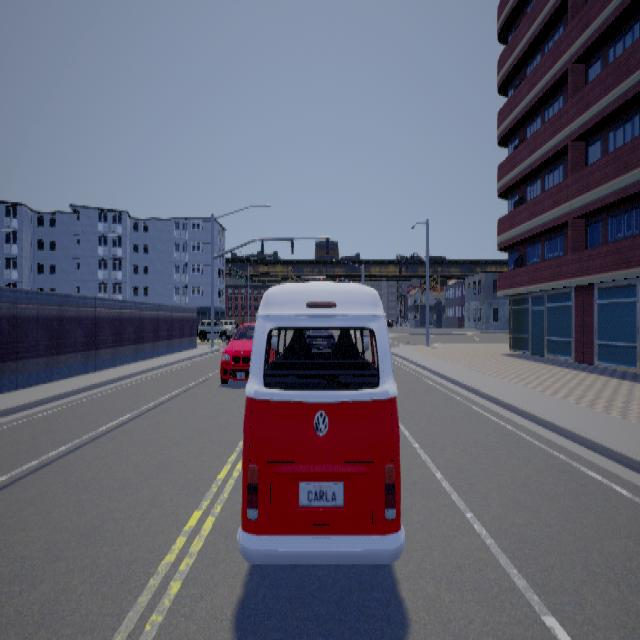vehicle: (243, 274, 404, 562), (218, 318, 254, 389)
